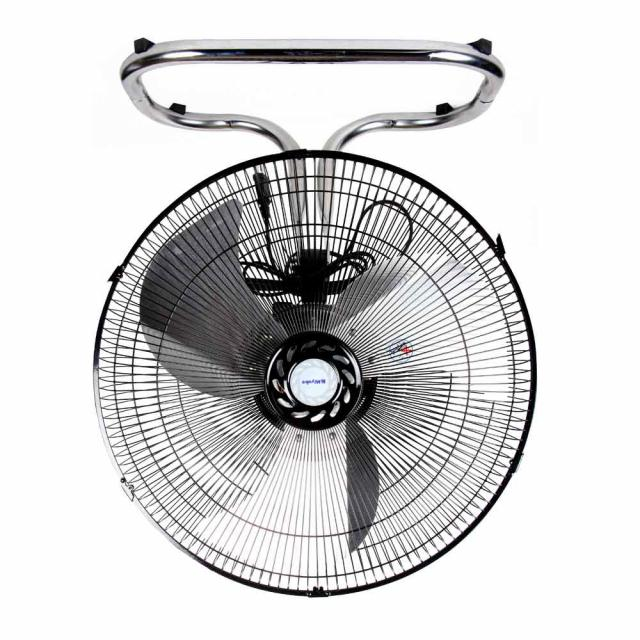fan: (94, 27, 542, 600)
